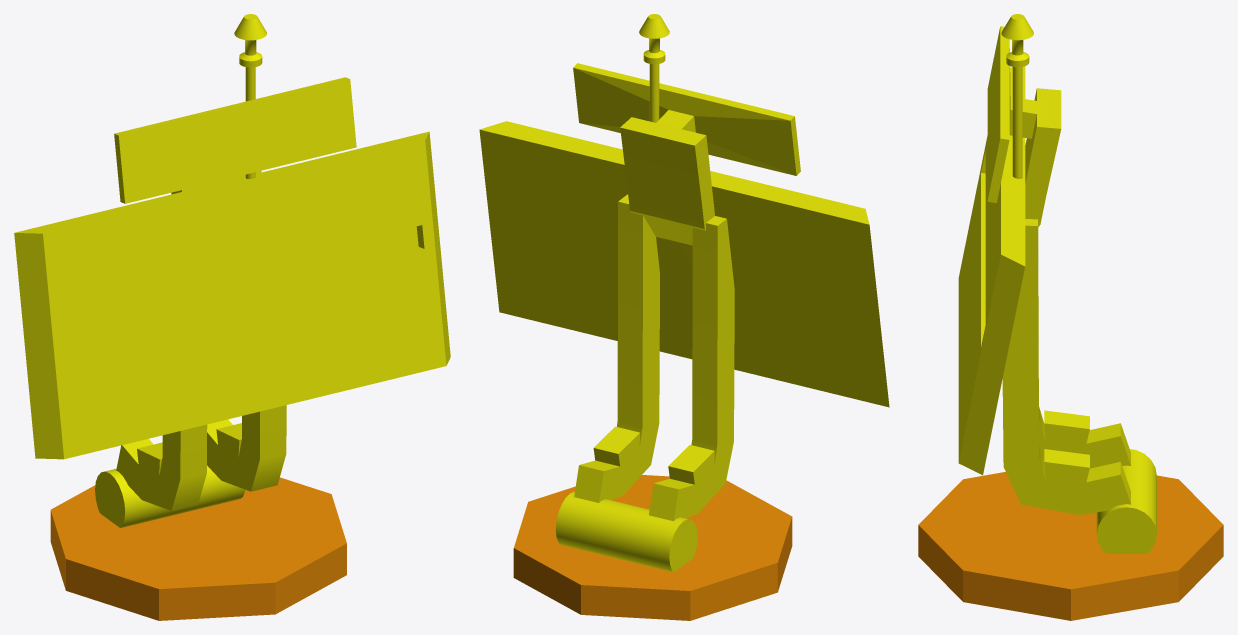
Rendered from Radar_samsite_lowpoly.fbx.
3 views of the same model, side by side, from view 1: azimuth 30°, elevation 25°; view 2: azimuth 150°, elevation 25°; view 3: azimuth 270°, elevation 25° (orthographic). The views are drawn at different scales.
Visible parts, largest first — view 1: radar2_lowpoly, radarbase_lowpoly; view 2: radar2_lowpoly, radarbase_lowpoly; view 3: radar2_lowpoly, radarbase_lowpoly.
Boxes of the visible parts, x1,y1,x2,y2 form: radar2_lowpoly: [14, 14, 450, 527]; radarbase_lowpoly: [50, 477, 346, 620]; radar2_lowpoly: [479, 14, 889, 572]; radarbase_lowpoly: [513, 475, 792, 620]; radar2_lowpoly: [958, 14, 1156, 553]; radarbase_lowpoly: [918, 472, 1223, 620].
Bounding box in the file's own units: 313 × 400 × 200.
